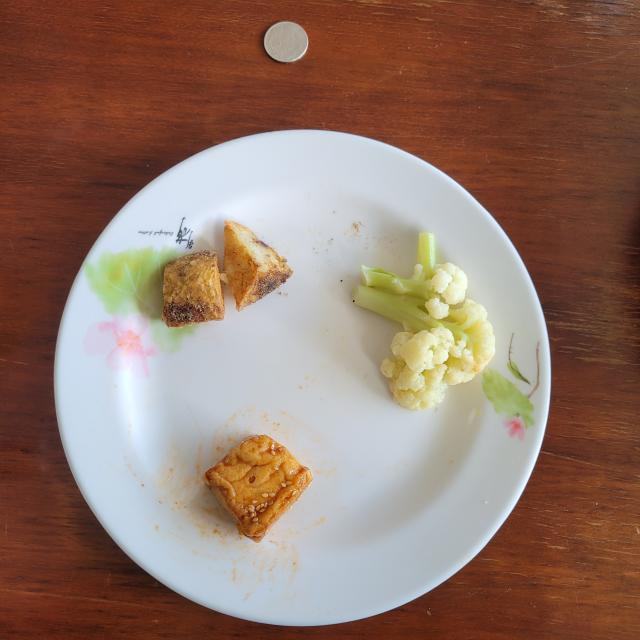coin: (264, 21, 309, 62)
creamy tofu: (202, 435, 312, 542)
fried potato: (162, 220, 292, 328)
